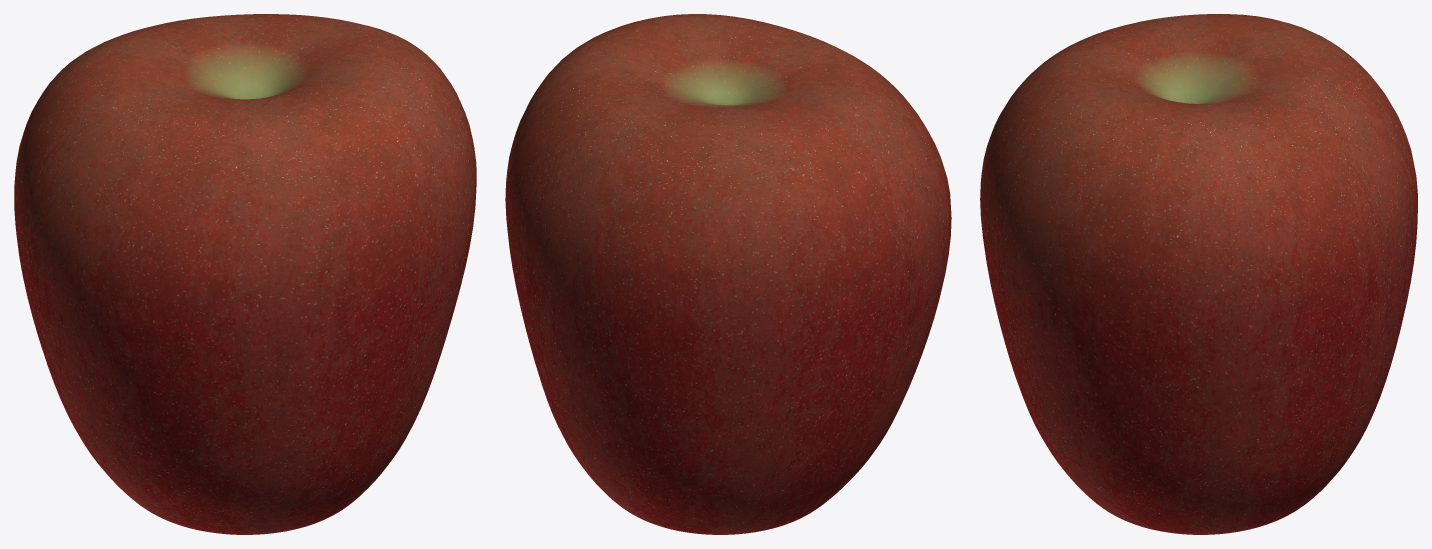
Rendered from apple.fbx.
3 renders of one model, left to right at view 1: azimuth 30°, elevation 25°; view 2: azimuth 150°, elevation 25°; view 3: azimuth 270°, elevation 25°, orthographic. The views are drawn at different scales.
Visible parts, largest first — view 1: Sphere; view 2: Sphere; view 3: Sphere.
Boxes of the visible parts, x1,y1,x2,y2 form: Sphere: [14, 14, 476, 534]; Sphere: [505, 14, 951, 534]; Sphere: [980, 14, 1417, 534].
Size of the model in its own units: 176 by 185 by 168.
1 material, 1 textured.
